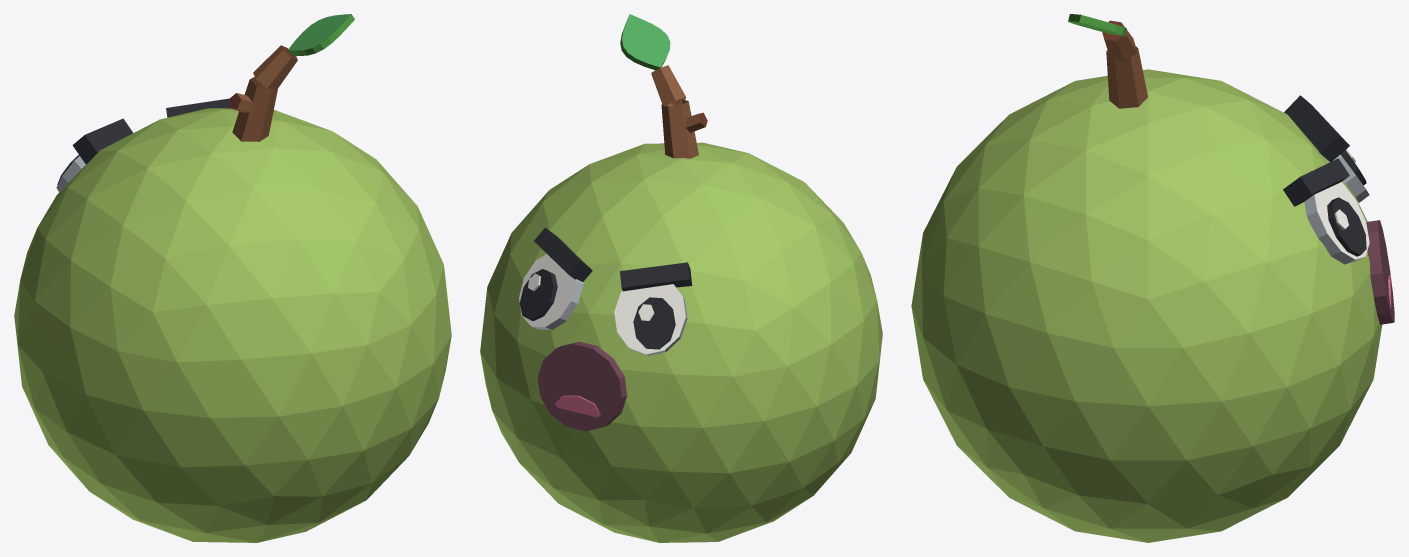
File: CH_Dalcik_T3_Eat.fbx
The picture shows the model from 3 angles, left to right: view 1: azimuth 30°, elevation 25°; view 2: azimuth 150°, elevation 25°; view 3: azimuth 270°, elevation 25°; orthographic projection. The views are drawn at different scales.
Parts seen in each view (by area): view 1: CH_Dalcik_T3_Eat; view 2: CH_Dalcik_T3_Eat; view 3: CH_Dalcik_T3_Eat.
Part boxes in pixels (x1,y1,x2,y2): CH_Dalcik_T3_Eat: (14, 14, 451, 542); CH_Dalcik_T3_Eat: (480, 14, 882, 542); CH_Dalcik_T3_Eat: (911, 14, 1394, 542).
Size of the model in its own units: 1 by 1.29 by 1.02.
